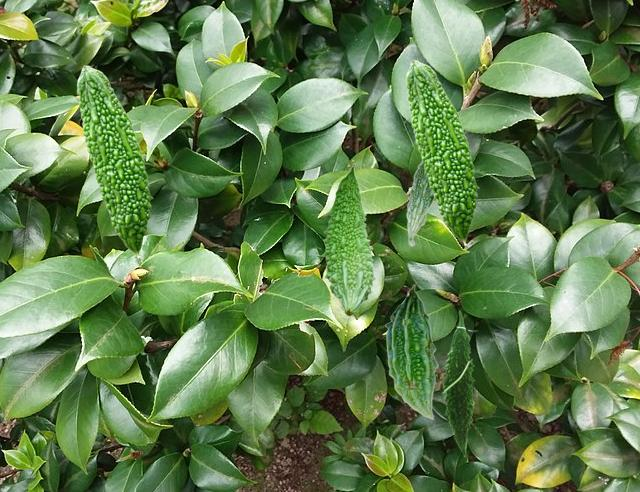ampalaya: (76, 64, 153, 261), (405, 59, 479, 249), (321, 163, 376, 316), (384, 283, 439, 420), (440, 309, 479, 457), (406, 161, 434, 247)
